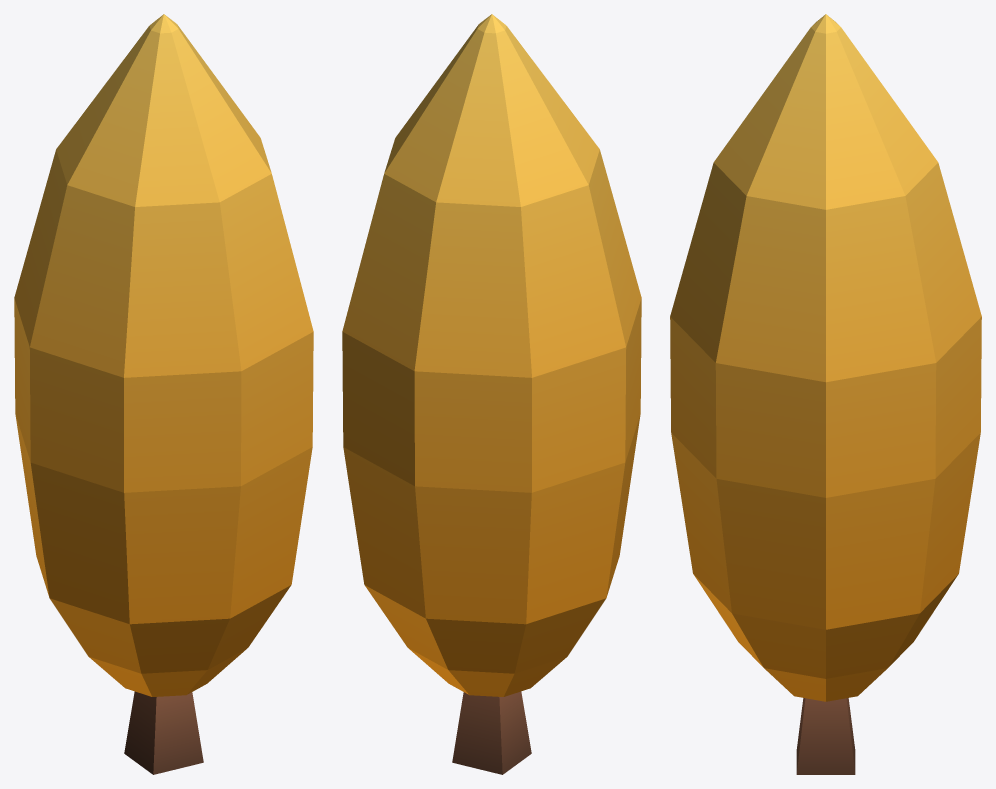
The model's file is autumn tree 5.fbx.
The picture shows the model from 3 angles, left to right: view 1: azimuth 30°, elevation 25°; view 2: azimuth 150°, elevation 25°; view 3: azimuth 270°, elevation 25°; orthographic projection.
Visible parts, largest first — view 1: autumn tree 5; view 2: autumn tree 5; view 3: autumn tree 5.
Boxes of the visible parts, left/top/right/bottom form: autumn tree 5: left=14, top=14, right=313, bottom=774; autumn tree 5: left=342, top=14, right=641, bottom=774; autumn tree 5: left=670, top=14, right=981, bottom=774.
Bounding box in the file's own units: 201 × 532 × 201.
